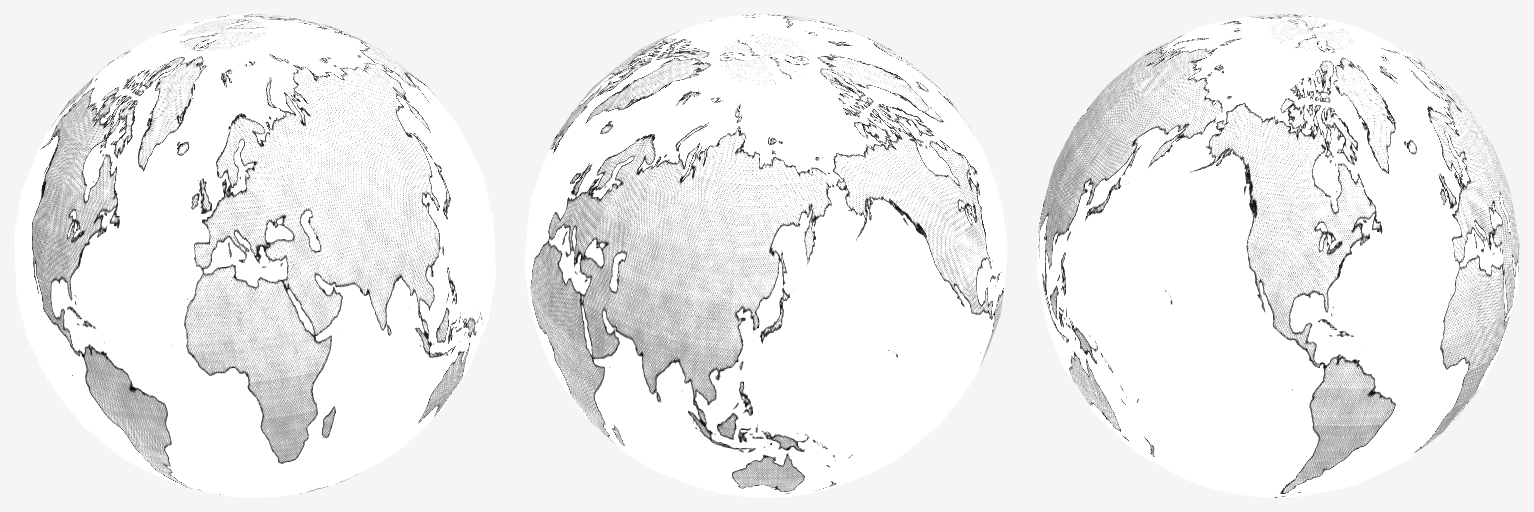
Rendered from globe.glb.
The picture shows the model from 3 angles, left to right: view 1: azimuth 30°, elevation 25°; view 2: azimuth 150°, elevation 25°; view 3: azimuth 270°, elevation 25°; orthographic projection.
Parts seen in each view (by area): view 1: Sphere; view 2: Sphere; view 3: Sphere.
Part boxes in pixels (x1,y1,x2,y2): Sphere: (14,14,495,497); Sphere: (524,14,1007,497); Sphere: (1036,14,1519,497).
Bounding box in the file's own units: 3.71 × 3.72 × 3.72.
1 material, 1 textured.
